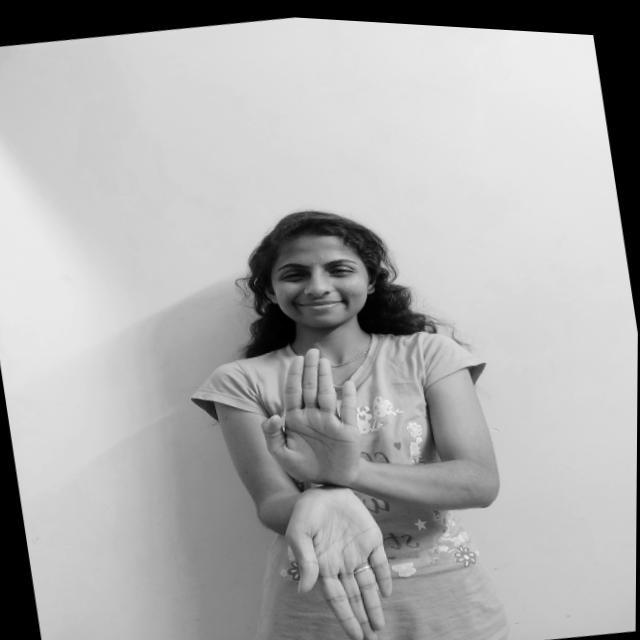Morning: (239, 318, 420, 640)
